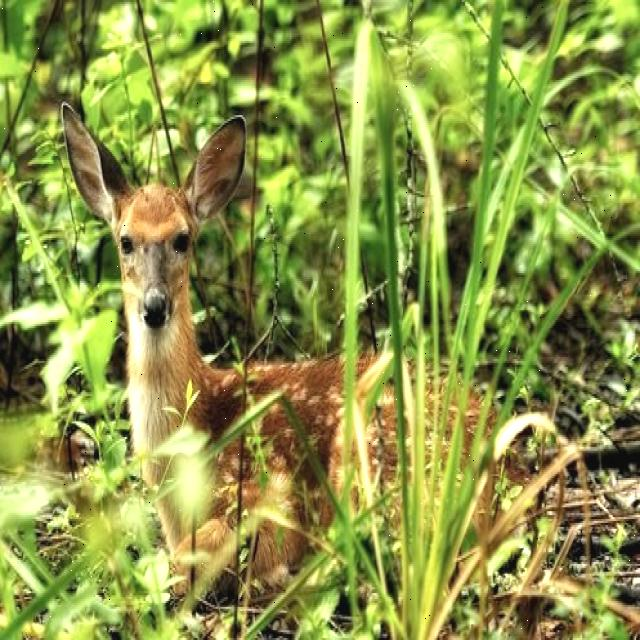deer: (58, 92, 262, 381)
